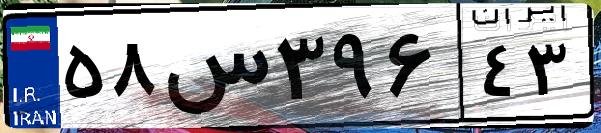3: (270, 28, 330, 110), (525, 38, 570, 115)
4: (475, 38, 525, 113)
5: (57, 26, 110, 100)
6: (385, 28, 445, 110)
8: (110, 28, 158, 98)
9: (330, 28, 385, 110)
س: (158, 20, 270, 120)
